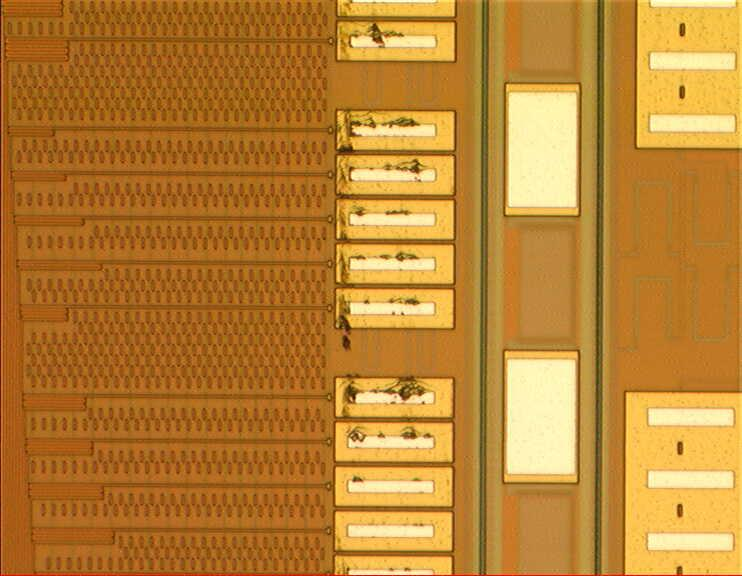SCRATCH: (336, 1, 435, 486)
